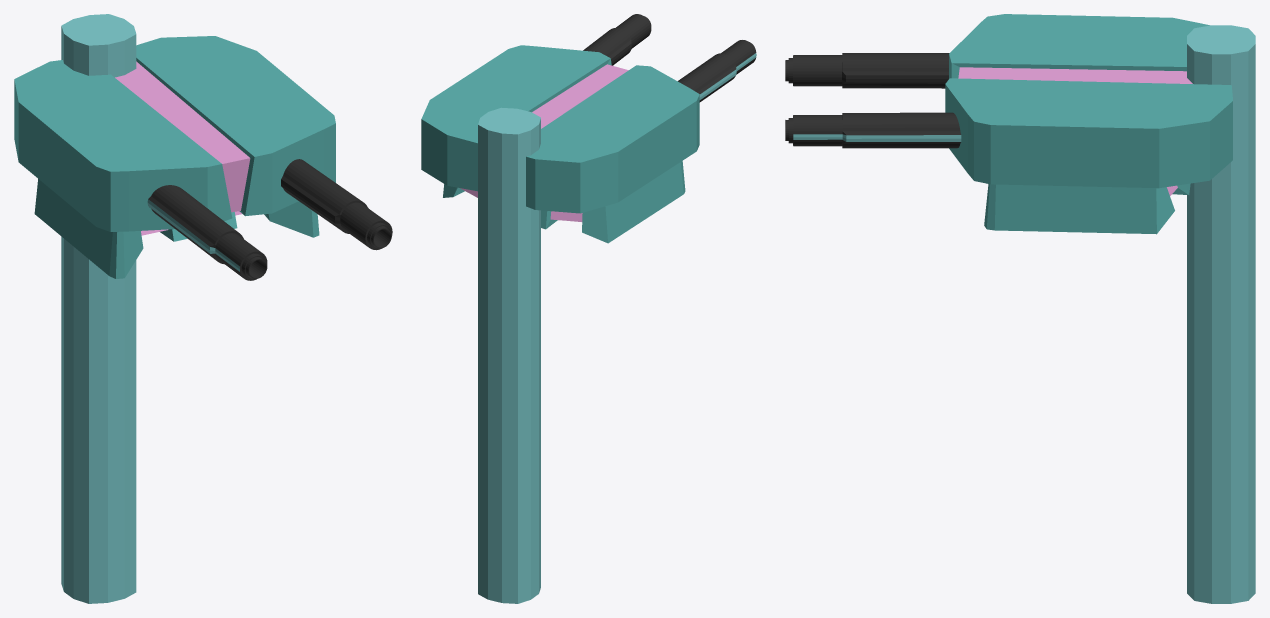
The model's file is turrets.fbx.
3 views of the same model, side by side, from view 1: azimuth 30°, elevation 25°; view 2: azimuth 150°, elevation 25°; view 3: azimuth 270°, elevation 25° (orthographic). The views are drawn at different scales.
Visible parts, largest first — view 1: TURRET1, TURRET0; view 2: TURRET1, TURRET0; view 3: TURRET1, TURRET0.
Boxes of the visible parts, box(x1,y1,x2,y2) form: TURRET1: box(14, 14, 392, 603); TURRET0: box(61, 14, 136, 603); TURRET1: box(421, 14, 756, 602); TURRET0: box(478, 107, 540, 603); TURRET1: box(785, 14, 1254, 603); TURRET0: box(1187, 25, 1255, 603).
Size of the model in its own units: 20.64 by 46.07 by 35.72.
